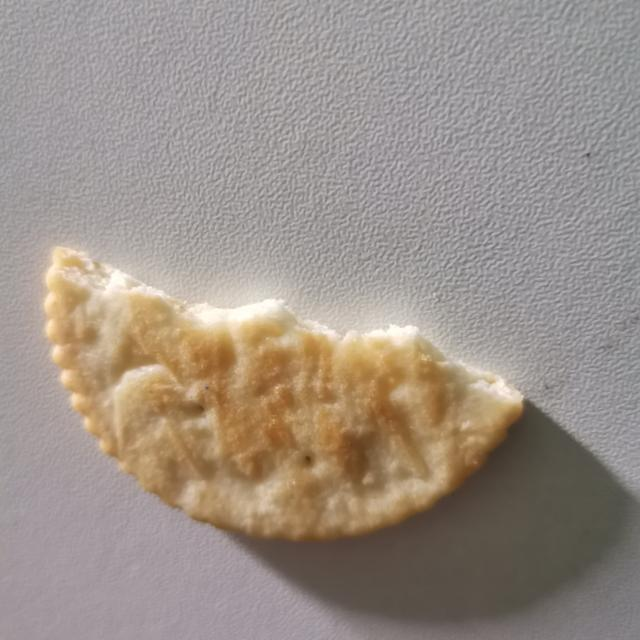Broken: (42, 244, 526, 543)
